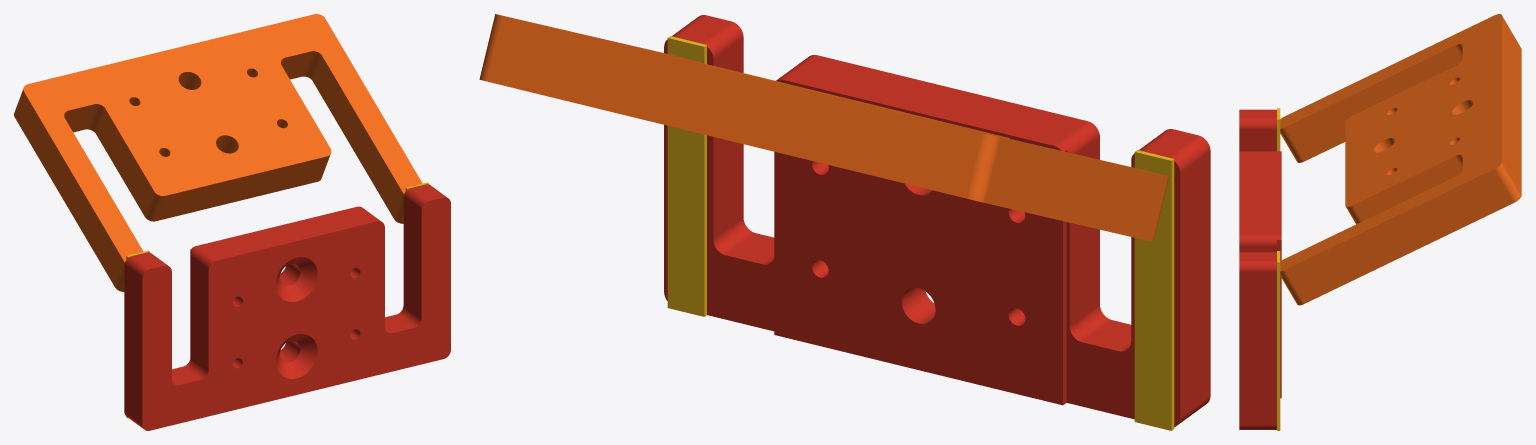
Rendered from HR-V0_J2_positive_stop_contact_candidate.glb.
The picture shows the model from 3 angles, left to right: view 1: azimuth 30°, elevation 25°; view 2: azimuth 150°, elevation 25°; view 3: azimuth 270°, elevation 25°; orthographic projection. The views are drawn at different scales.
Visible parts, largest first — view 1: MV0-C06_MOVING_STRIKER_AT_CONTACT, MV0-C07_FIXED_CATCH; view 2: MV0-C07_FIXED_CATCH, MV0-C06_MOVING_STRIKER_AT_CONTACT, BUMPER_SR1_MAXIMUM_ENVELOPE_SELECTION_REQUIRED; view 3: MV0-C06_MOVING_STRIKER_AT_CONTACT, MV0-C07_FIXED_CATCH, BUMPER_SR1_MAXIMUM_ENVELOPE_SELECTION_REQUIRED.
Boxes of the visible parts, x1,y1,x2,y2 form: MV0-C06_MOVING_STRIKER_AT_CONTACT: (14, 14, 422, 291); MV0-C07_FIXED_CATCH: (124, 184, 450, 430); MV0-C07_FIXED_CATCH: (664, 15, 1210, 426); MV0-C06_MOVING_STRIKER_AT_CONTACT: (479, 14, 1169, 241); BUMPER_SR1_MAXIMUM_ENVELOPE_SELECTION_REQUIRED: (667, 36, 1174, 430); MV0-C06_MOVING_STRIKER_AT_CONTACT: (1280, 14, 1521, 305); MV0-C07_FIXED_CATCH: (1239, 109, 1281, 429); BUMPER_SR1_MAXIMUM_ENVELOPE_SELECTION_REQUIRED: (1277, 108, 1280, 430).
Size of the model in its own units: 84 by 66.05 by 63.66.
